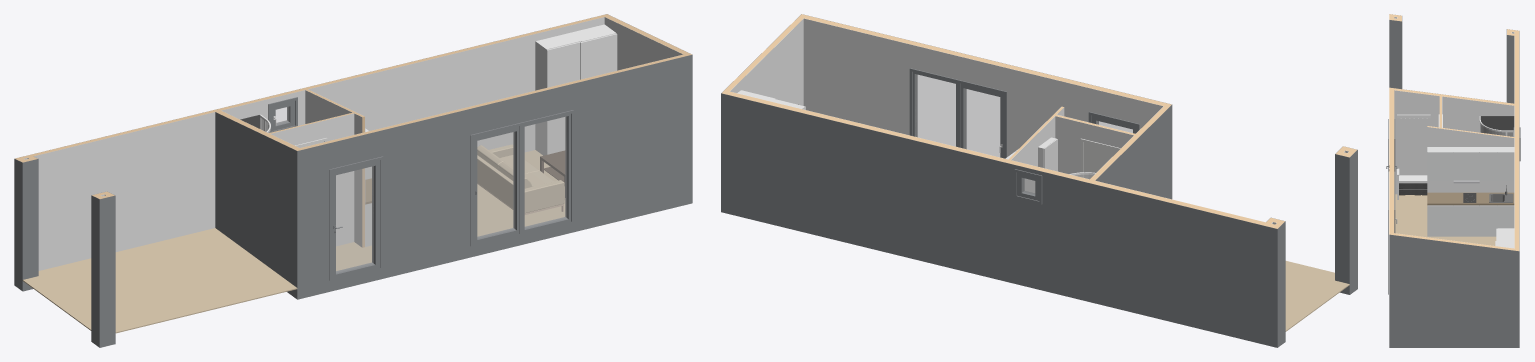
The model's file is Airija_(3,0x12,0)_R00 su mansarda.fbx.
3 views of the same model, side by side, from view 1: azimuth 30°, elevation 25°; view 2: azimuth 150°, elevation 25°; view 3: azimuth 270°, elevation 25° (orthographic). The views are drawn at different scales.
Visible parts, largest first — view 1: IfcWall/Part:2319977, IfcWall/Part:2584474, IfcSlab/Part:2588969, IfcWall/Part:2584025, IfcWall/Part:2584022, IfcDoor/Exterior Door:1000x2100x120 (dešininės):2439432, IfcWindow/Windows (Akrusta):1000x2100x120:2512981, IfcWindow/Windows (Akrusta):1000x2100x120 (kairinis):2409843, IfcFurnishingElement/Ikea spinta:1500 x 440 x 2100mm:2587528, IfcFurnishingElement/Bolia - North Seater Sofa:2 1/2 Seater:, IfcSlab/Part:2319985, IfcWall/Part:2566166 (+11 smaller); view 2: IfcWall/Part:2397155, IfcWall/Part:2319976, IfcWall/Part:2584022, IfcWindow/Windows (Akrusta):1000x2100x120:2512981, IfcWindow/Windows (Akrusta):1000x2100x120 (kairinis):2409843, IfcWall/Part:2397151, IfcSlab/Part:2588969, IfcWall/Part:2397156, IfcWall/Part:2566165, IfcWall/Part:2585075, IfcWall/Part:2319978, IfcWall/Part:2585060 (+8 smaller); view 3: IfcWall/Part:2397152, IfcWall/Part:2584021, IfcWall/Part:2566162, IfcSlab/Part:2319985, IfcWall/Part:2397156, IfcWall/Part:2585027, IfcFurnishingElement/Countertop2:Countertop:2580830, IfcWall/Part:2319978, IfcFurnishingElement/Spintelių durelės (neskaičiuoti):600mm:, IfcFurnishingElement/Spintelių durelės (neskaičiuoti):60, IfcFurnishingElement/Spintelių durelės (neskaičiuoti):60.001, IfcFurnishingElement/Indaplovės/šaldytuvo durelės:600mm:2580 (+22 smaller).
Part boxes in pixels (x1,y1,x2,y2): IfcWall/Part:2319977: (297,54,692,299); IfcWall/Part:2584474: (34,112,215,270); IfcSlab/Part:2588969: (22,228,297,333); IfcWall/Part:2584025: (221,17,604,152); IfcWall/Part:2584022: (215,112,297,299); IfcDoor/Exterior Door:1000x2100x120 (dešininės):2439432: (329,156,383,280); IfcWindow/Windows (Akrusta):1000x2100x120:2512981: (519,110,573,234); IfcWindow/Windows (Akrusta):1000x2100x120 (kairinis):2409843: (470,122,524,246); IfcFurnishingElement/Ikea spinta:1500 x 440 x 2100mm:2587528: (535,24,617,155); IfcFurnishingElement/Bolia - North Seater Sofa:2 1/2 Seater:: (477,144,564,214); IfcSlab/Part:2319985: (336,150,565,270); IfcWall/Part:2566166: (271,113,354,246); IfcWall/Part:2397155: (721,93,1277,347); IfcWall/Part:2319976: (803,18,1163,156); IfcWall/Part:2584022: (1095,105,1172,199); IfcWindow/Windows (Akrusta):1000x2100x120:2512981: (909,68,960,147); IfcWindow/Windows (Akrusta):1000x2100x120 (kairinis):2409843: (956,79,1006,158); IfcWall/Part:2397151: (730,18,803,105); IfcSlab/Part:2588969: (1285,261,1349,331); IfcWall/Part:2397156: (722,90,1279,228); IfcWall/Part:2566165: (1055,116,1133,176); IfcWall/Part:2585075: (1335,154,1349,294); IfcWall/Part:2319978: (804,15,1171,107); IfcWall/Part:2585060: (1349,149,1357,294); IfcWall/Part:2397152: (1389,234,1519,347); IfcWall/Part:2584021: (1394,90,1514,194); IfcWall/Part:2566162: (1427,127,1514,192); IfcSlab/Part:2319985: (1395,194,1496,245); IfcWall/Part:2397156: (1514,30,1519,250); IfcWall/Part:2585027: (1389,20,1402,88); IfcFurnishingElement/Countertop2:Countertop:2580830: (1427,192,1514,205); IfcWall/Part:2319978: (1389,87,1394,232); IfcFurnishingElement/Spintelių durelės (neskaičiuoti):600mm:: (1427,152,1453,180); IfcFurnishingElement/Spintelių durelės (neskaičiuoti):60: (1453,152,1479,180); IfcFurnishingElement/Spintelių durelės (neskaičiuoti):60.001: (1453,205,1479,233); IfcFurnishingElement/Indaplovės/šaldytuvo durelės:600mm:2580: (1427,205,1453,233).
Bounding box in the file's own units: 1200 × 287 × 309.
